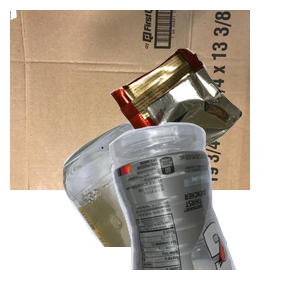cardboard: (10, 10, 250, 190)
glass: (60, 120, 300, 300)
plastic: (106, 120, 300, 300)
trash: (107, 46, 300, 198)
